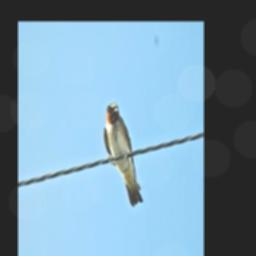Swallow: (104, 100, 145, 207)
